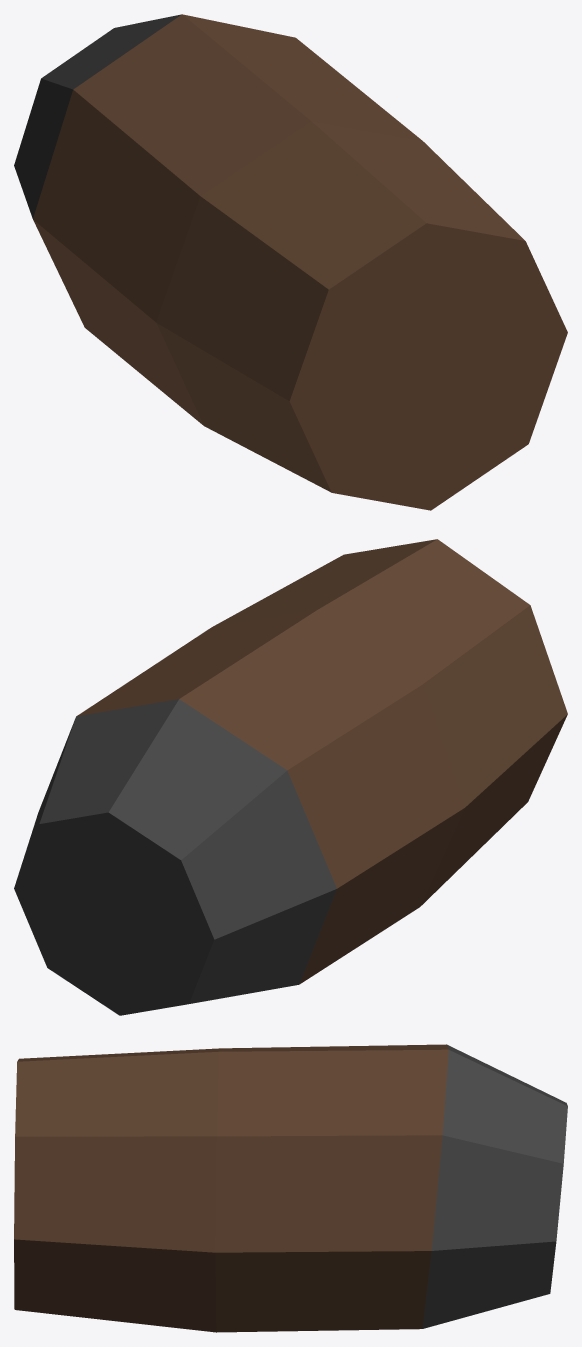
Rendered from CigarButt.fbx.
3 renders of one model, top to bottom at view 1: azimuth 30°, elevation 25°; view 2: azimuth 150°, elevation 25°; view 3: azimuth 270°, elevation 25°, orthographic. The views are drawn at different scales.
Parts seen in each view (by area): view 1: Cylinder.005; view 2: Cylinder.005; view 3: Cylinder.005.
Part boxes in pixels (x1=…): Cylinder.005: x1=14, y1=14, x2=567, y2=510; Cylinder.005: x1=14, y1=539, x2=567, y2=1015; Cylinder.005: x1=14, y1=1044, x2=567, y2=1332.
Bounding box in the file's own units: 12.51 × 12.55 × 22.48.
